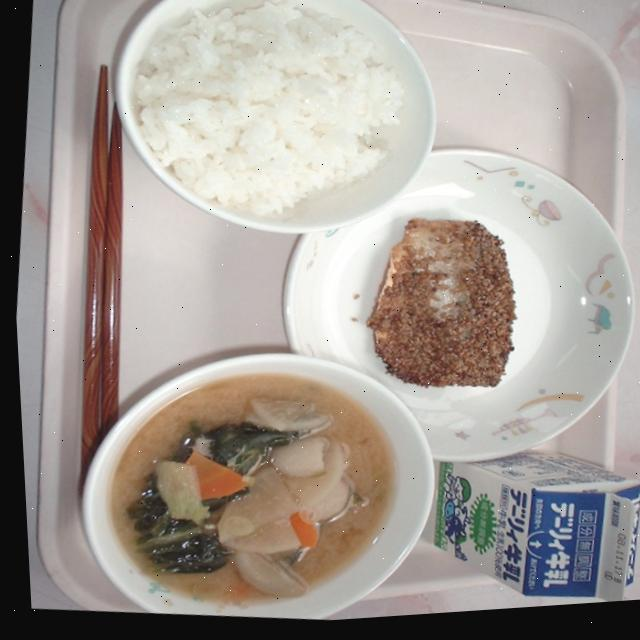炸货点心: (236, 135, 608, 469)
熟制海鲜: (236, 135, 608, 469)
米饭主食: (110, 0, 451, 264)
蔬菜料理: (58, 344, 429, 638)
